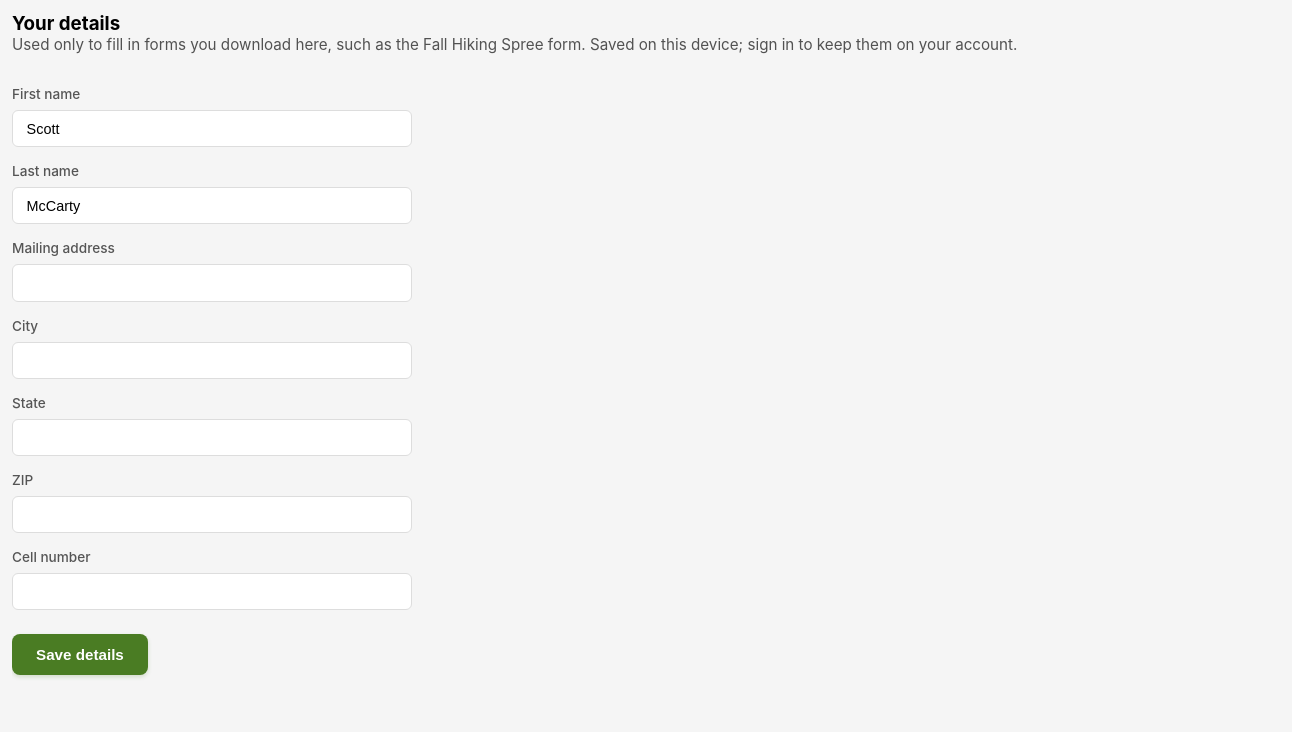
Test: ContactDetails › saves what was typed along with what was already there
In the field labelled "Mailing address": (212, 283) x1=12 y1=264 x2=412 y2=302, type " 1 Main St "
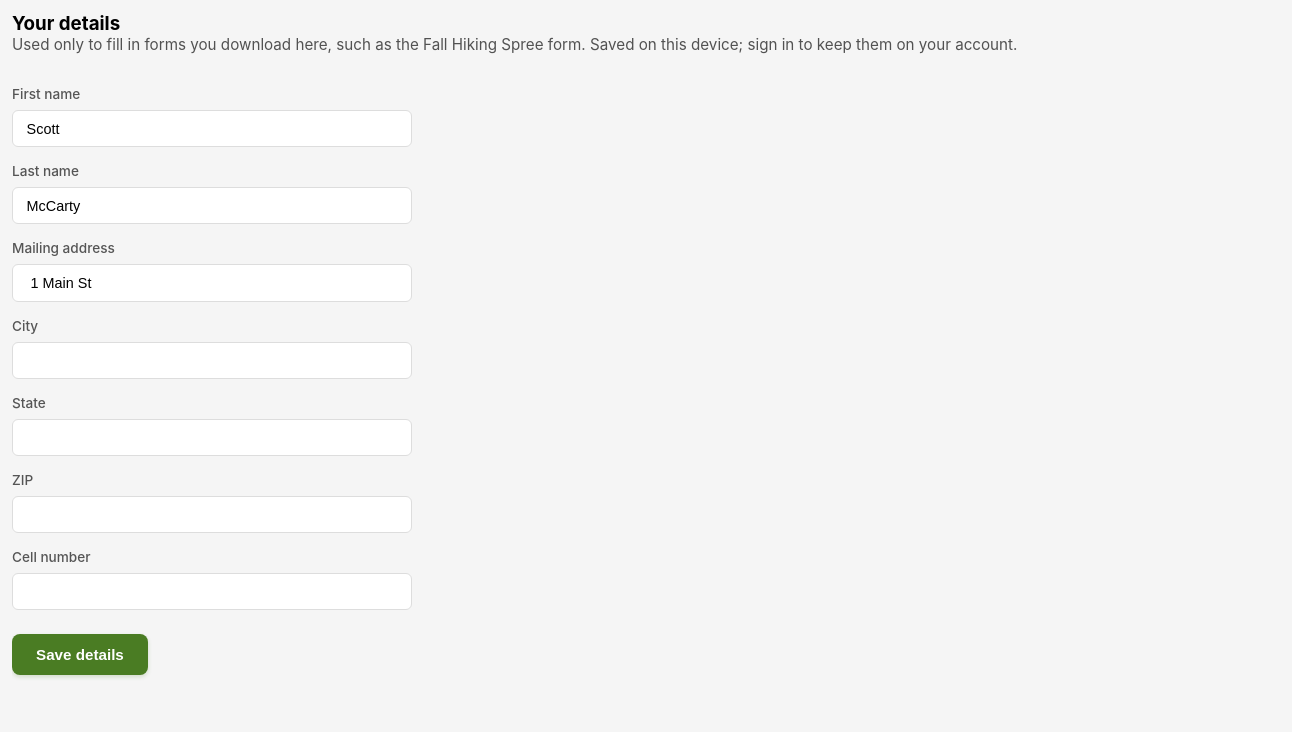
In the field labelled "Cell number": (212, 592) x1=12 y1=573 x2=412 y2=610, type "330-555-0100"
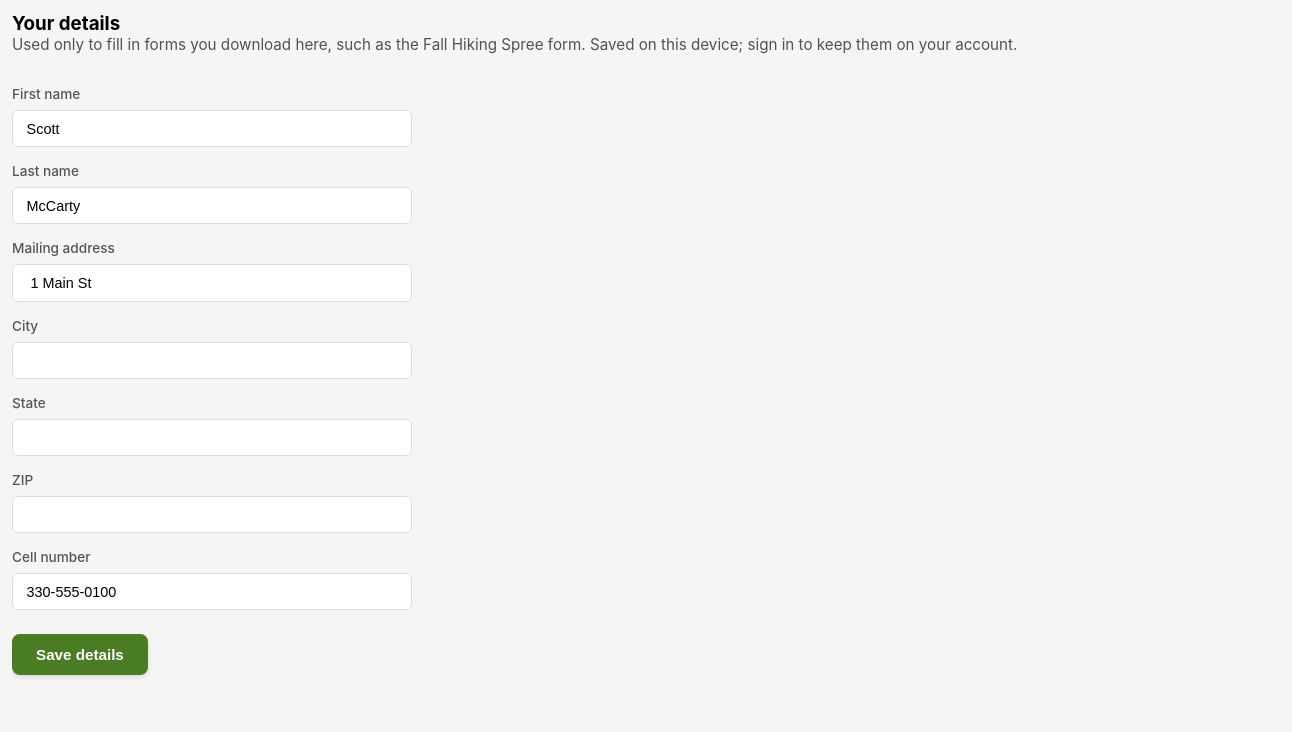
Click the button "Save details": (80, 655) x1=12 y1=634 x2=148 y2=675
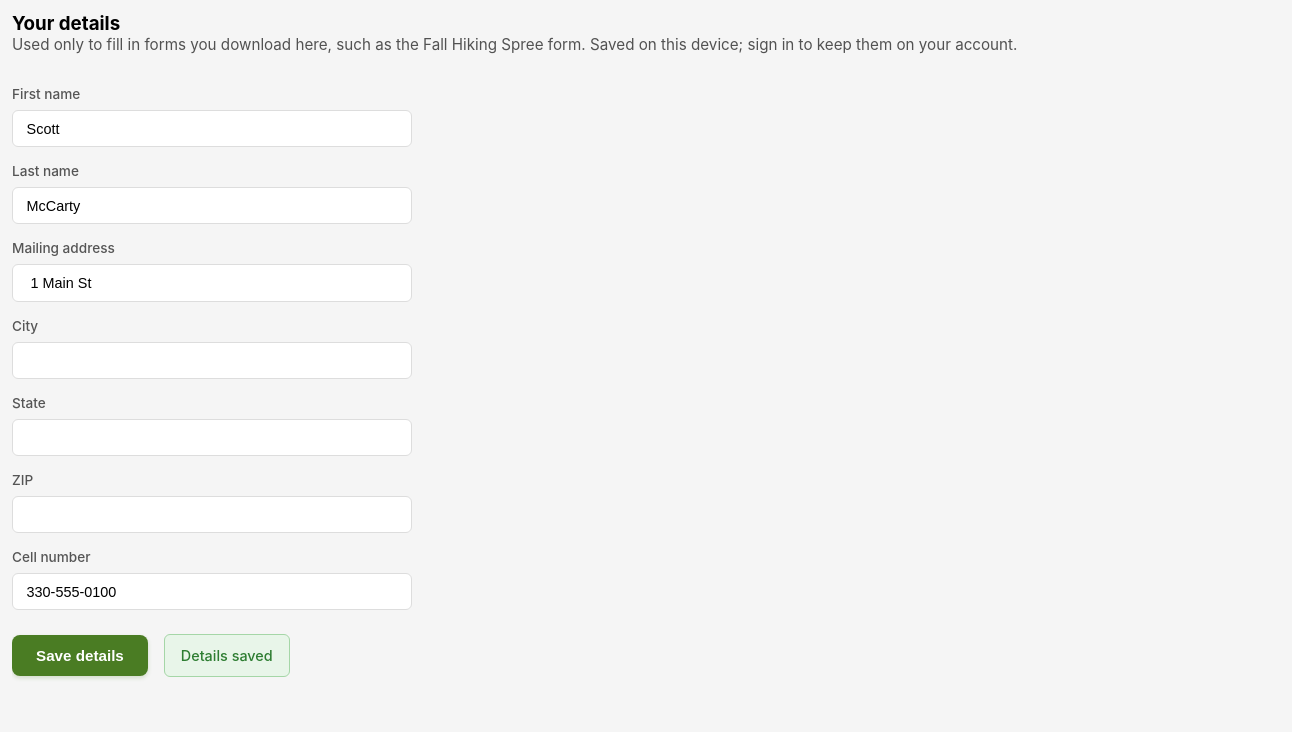
Now the message reads "Details saved", box x1=181 y1=647 x2=273 y2=664
